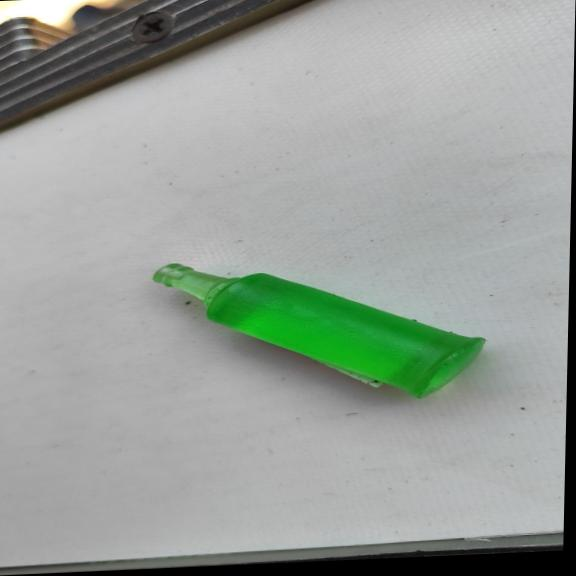Plastik: (149, 248, 488, 410)
